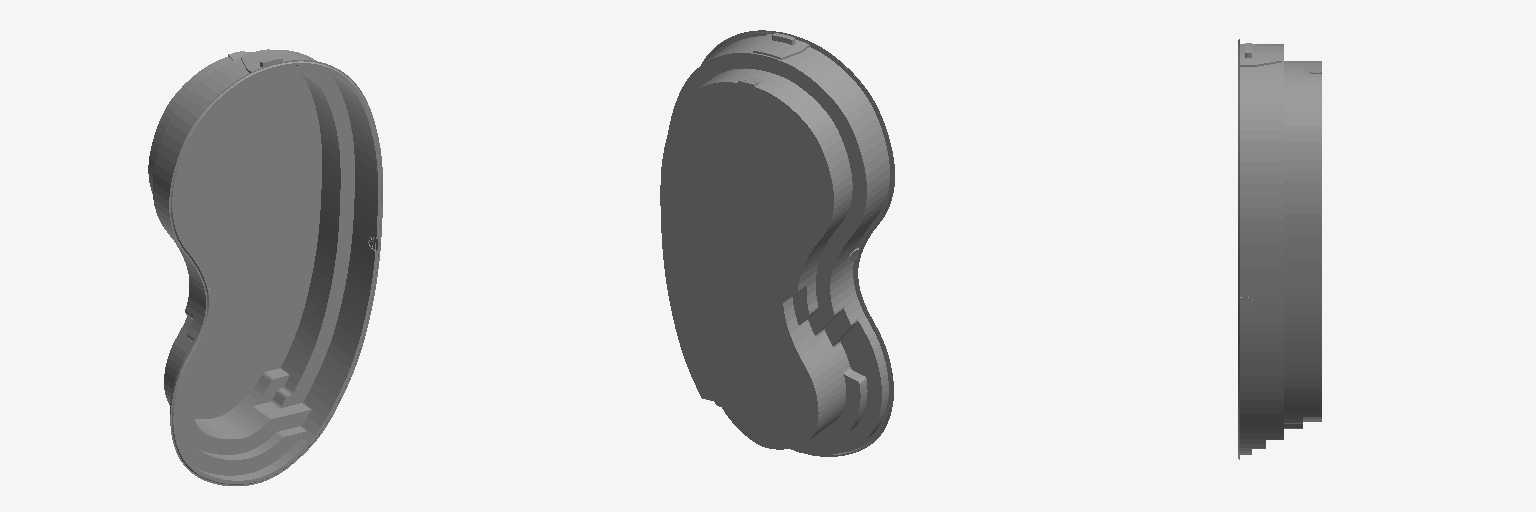
Rendered from Caraïbes.obj.
The picture shows the model from 3 angles: view 1: azimuth 30°, elevation 25°; view 2: azimuth 150°, elevation 25°; view 3: azimuth 270°, elevation 25°; orthographic projection.
Visible parts, largest first — view 1: modele; view 2: modele; view 3: modele.
Part boxes in pixels (bbox=[...]): modele: bbox=[148, 49, 382, 485]; modele: bbox=[660, 30, 894, 456]; modele: bbox=[1238, 39, 1321, 459].
Size of the model in its own units: 4.46 by 8.3 by 1.5.